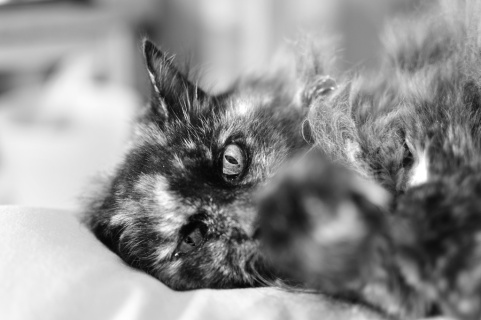Cat: (73, 0, 481, 319)
